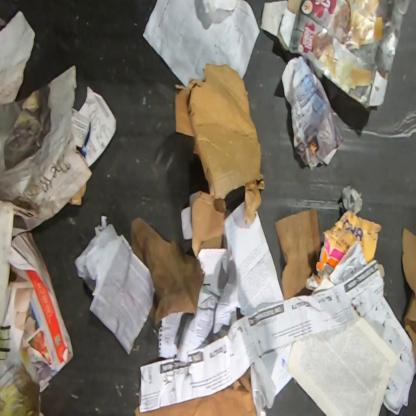cardboard: (175, 63, 265, 258), (260, 0, 410, 113), (133, 366, 258, 415), (275, 208, 321, 301), (70, 86, 117, 168), (401, 227, 416, 366), (68, 182, 86, 206)
